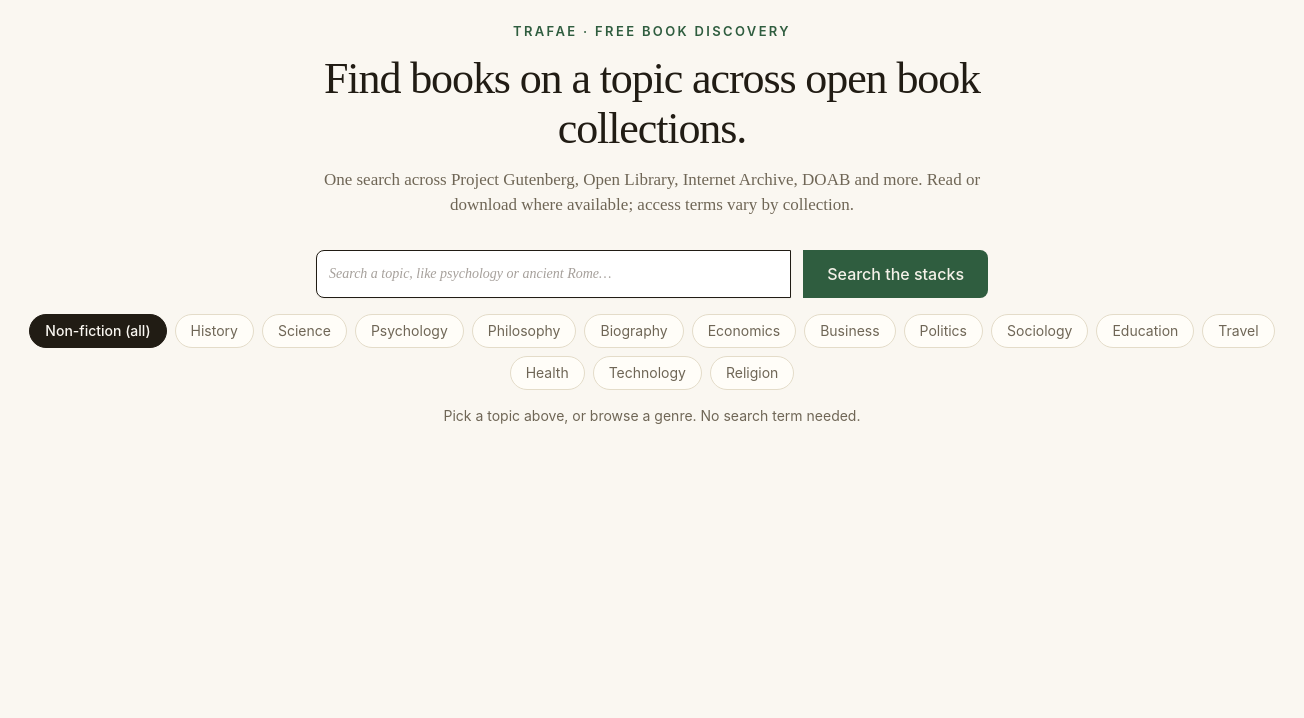
Test: disables Next on the final page
Type "psychology" into the field with placeholder "Search a topic, like psychology or ancient Rome…" at [554, 274], box [316, 250, 791, 298]
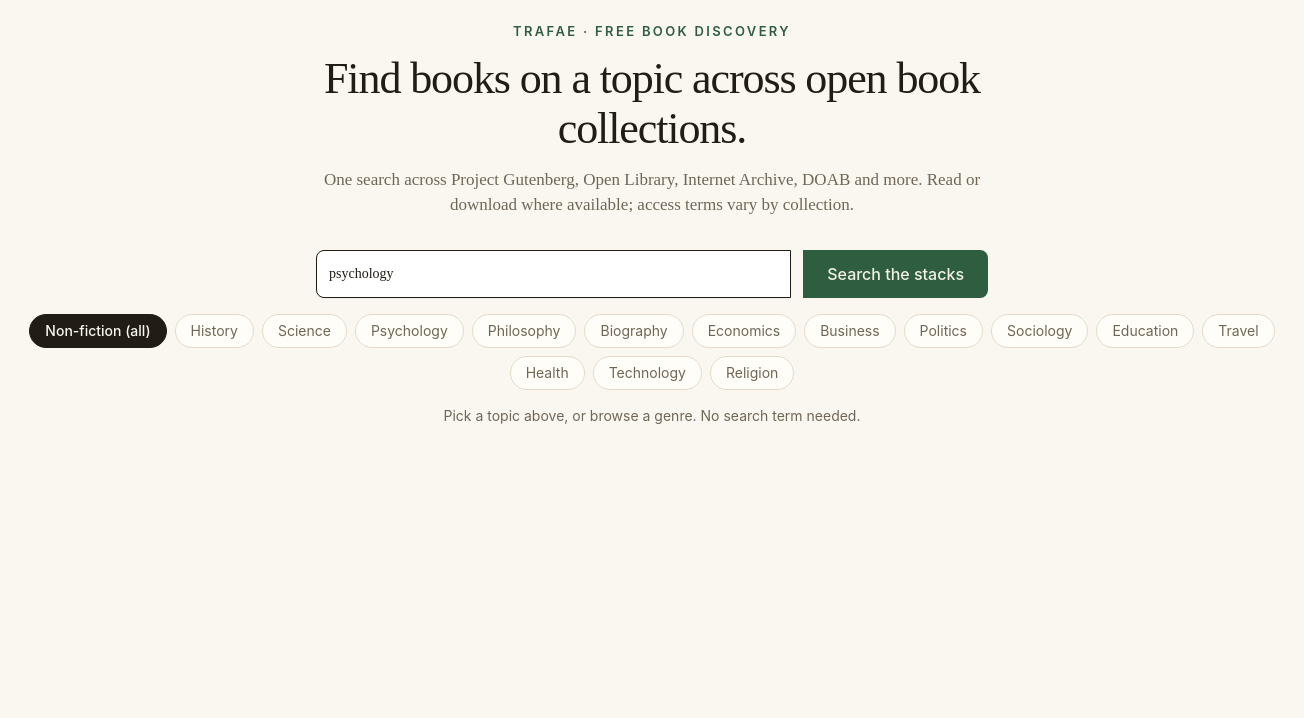
Click the button "Search the stacks" at [896, 274], box [803, 250, 988, 298]
(page scrolled)
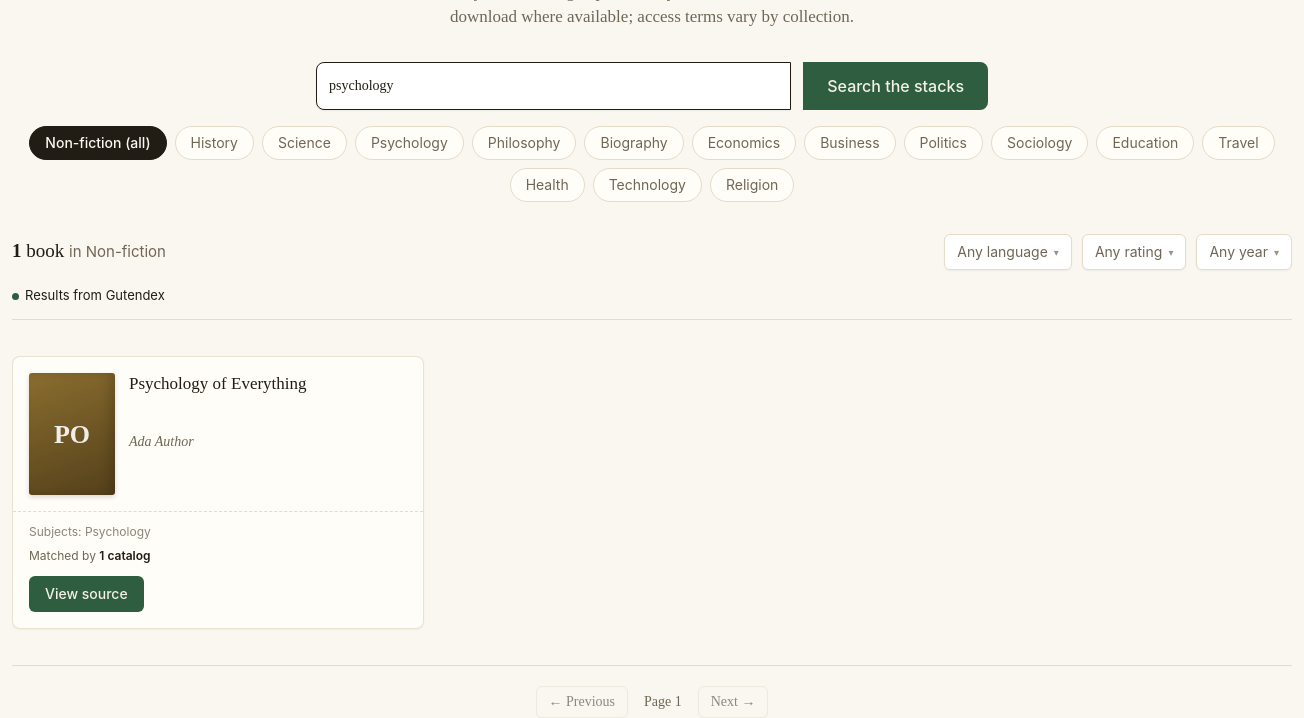
Check: the button "Next →" is disabled, box [698, 686, 768, 717]
